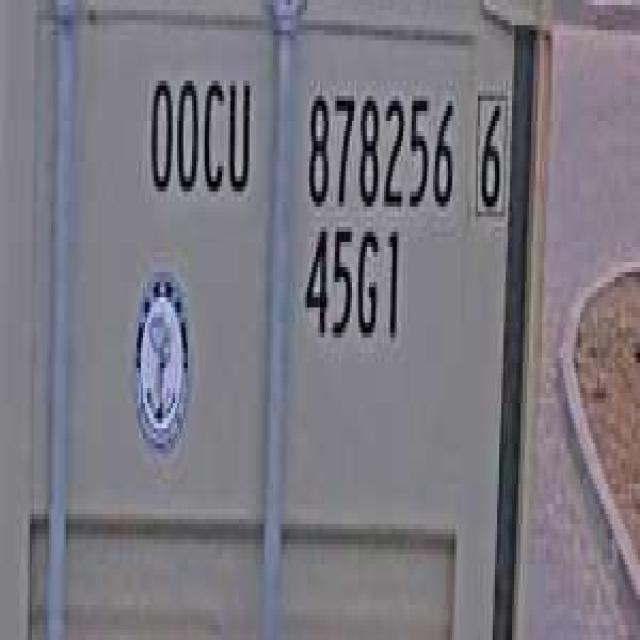dv: (469, 76, 510, 226)
owner: (141, 50, 256, 212)
serial: (298, 70, 458, 222)
size: (296, 222, 408, 358)
